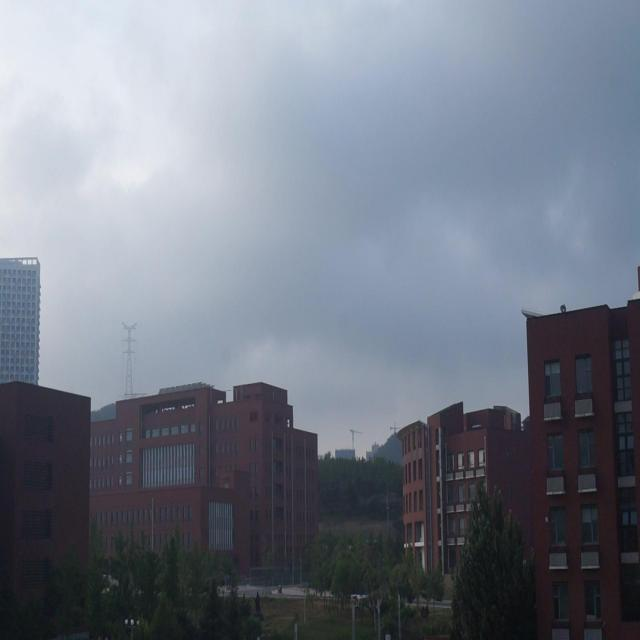UAV: (351, 594, 369, 606)
